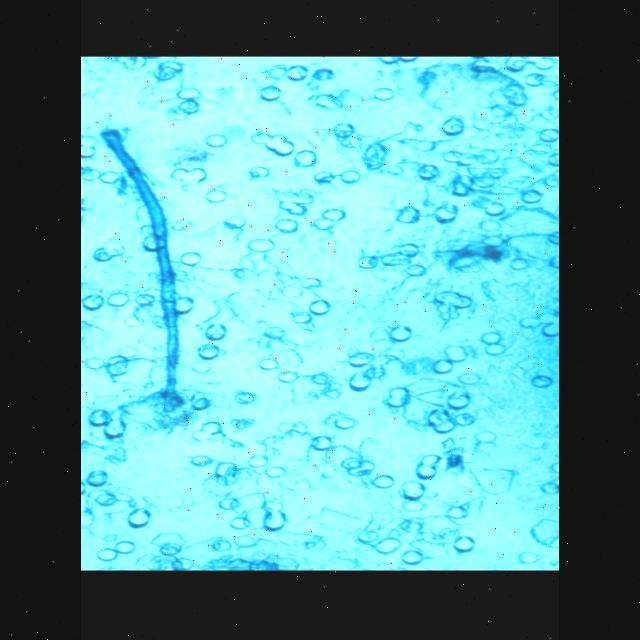Fibre: (94, 126, 196, 432)
